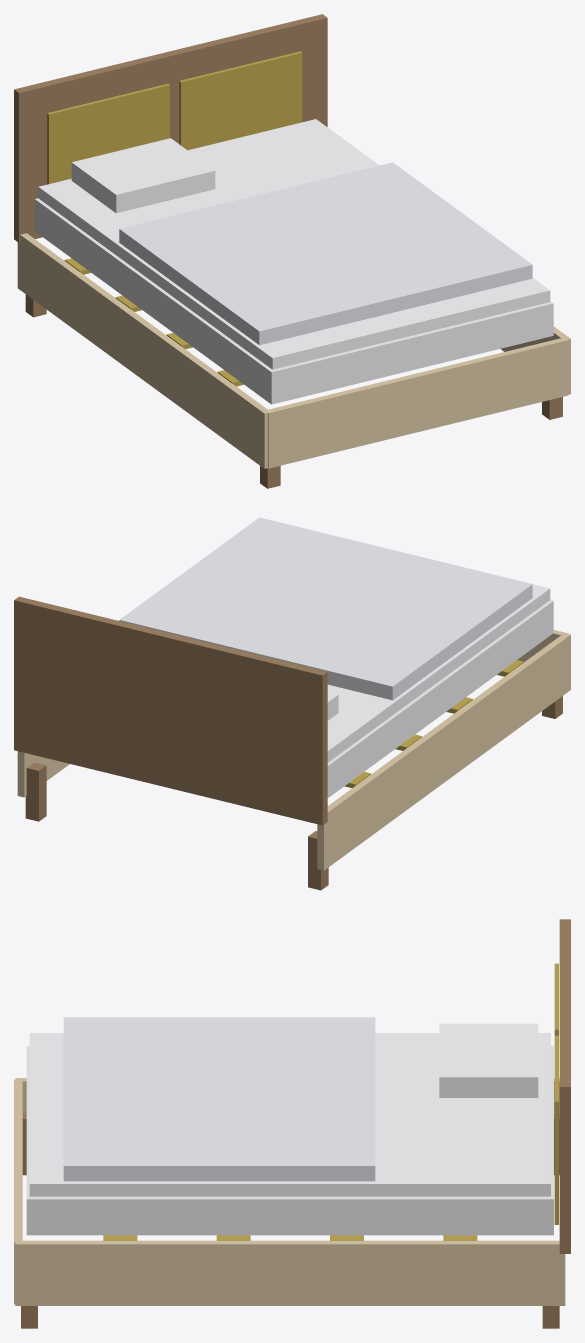
The model's file is bed.glb.
3 views of the same model, one above another, from view 1: azimuth 30°, elevation 25°; view 2: azimuth 150°, elevation 25°; view 3: azimuth 270°, elevation 25° (orthographic). The views are drawn at different scales.
Visible parts, largest first — view 1: blanket, mattress_top, mattress, footboard, hb_panels, side_rails, headboard, pillow, legs, slats; view 2: headboard, blanket, side_rails, mattress, mattress_top, legs, slats; view 3: blanket, side_rails, mattress_top, mattress, pillow, headboard, footboard, hb_panels, legs, slats.
Part boxes in pixels (x1,y1,x2,y2): blanket: (119,162,532,345); mattress_top: (38,119,550,369); mattress: (35,198,553,404); footboard: (268,338,568,468); hb_panels: (47,51,302,184); side_rails: (17,233,570,468); headboard: (14,14,327,242); pillow: (71,138,215,213); legs: (25,294,562,488); slats: (64,258,243,386); headboard: (14,596,327,825); blanket: (119,517,532,700); side_rails: (17,633,570,870); mattress: (327,600,553,797); mattress_top: (327,584,550,762); legs: (25,696,562,890); slats: (344,660,523,787); blanket: (63,1017,375,1181); side_rails: (15,1078,565,1305); mattress_top: (29,1033,550,1196); mattress: (26,1046,553,1235); pillow: (439,1023,538,1097); headboard: (559,919,570,1253); footboard: (14,1079,22,1304); hb_panels: (554,963,558,1224); legs: (21,1112,559,1328); slats: (103,1235,477,1240).
Bounding box in the file's own units: 1.4 × 0.955 × 1.97.
